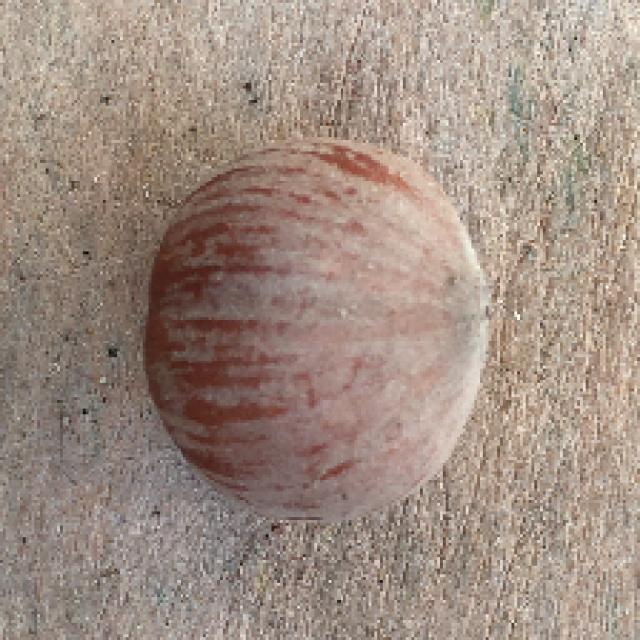QualityHazelnut: (143, 139, 498, 526)
